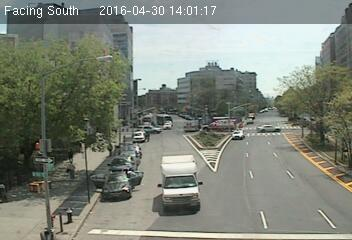neg: (260, 154, 303, 212), (180, 48, 219, 100), (125, 171, 162, 222), (26, 64, 57, 106), (271, 88, 302, 129), (235, 103, 265, 143), (192, 139, 221, 178), (7, 164, 34, 200), (51, 194, 74, 225), (131, 82, 153, 111), (255, 46, 275, 73), (103, 61, 120, 85)
pos: (65, 161, 80, 181), (103, 142, 115, 157), (67, 150, 77, 163)
